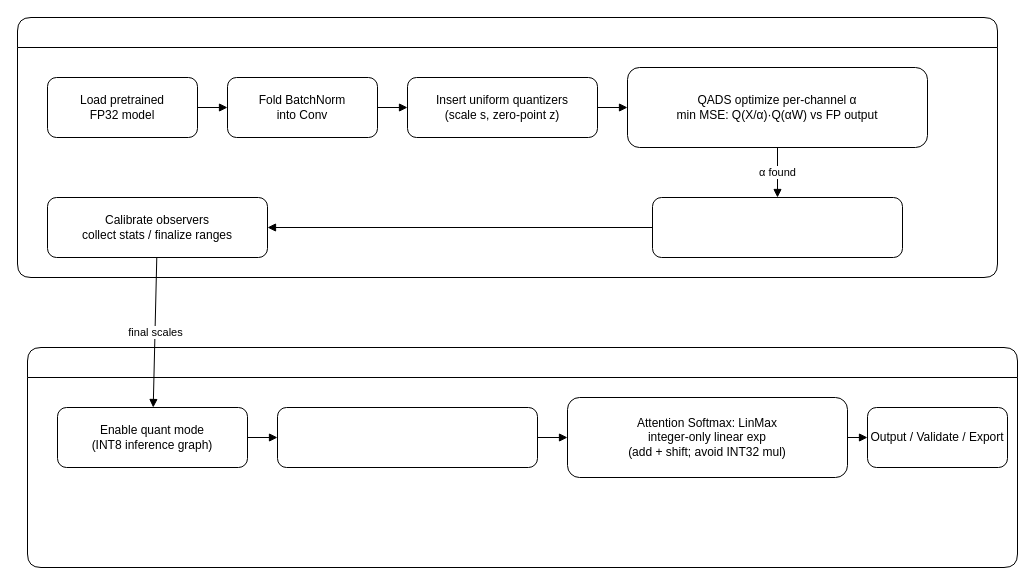
Image size: 1035x585. Some labels were removed from this diagram. The shapes that lost their labels are listed below. From the top down, each one's box as (x1, y1, x2, y2) in pixels, then its label:
(16, 16, 998, 278): Offline / Calibration Stage
(652, 196, 902, 258): Merge α into quantizer / weights s* = α·s, Wc = W/α (offline)
(276, 406, 538, 468): INT8 Conv / MatMul / FC / LN (+ shortcut quant if needed)
(26, 346, 1018, 568): Inference Stage (Integer-only goal)
